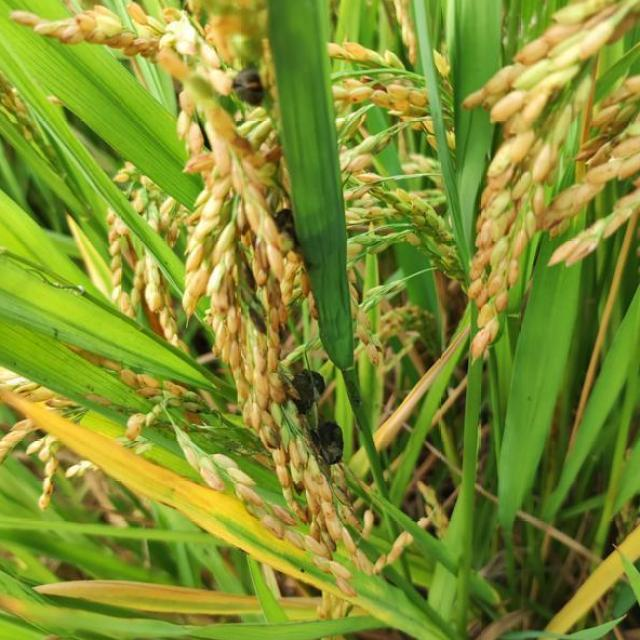Leaf_Scald: (286, 366, 328, 412), (308, 419, 346, 467), (230, 64, 267, 107)
